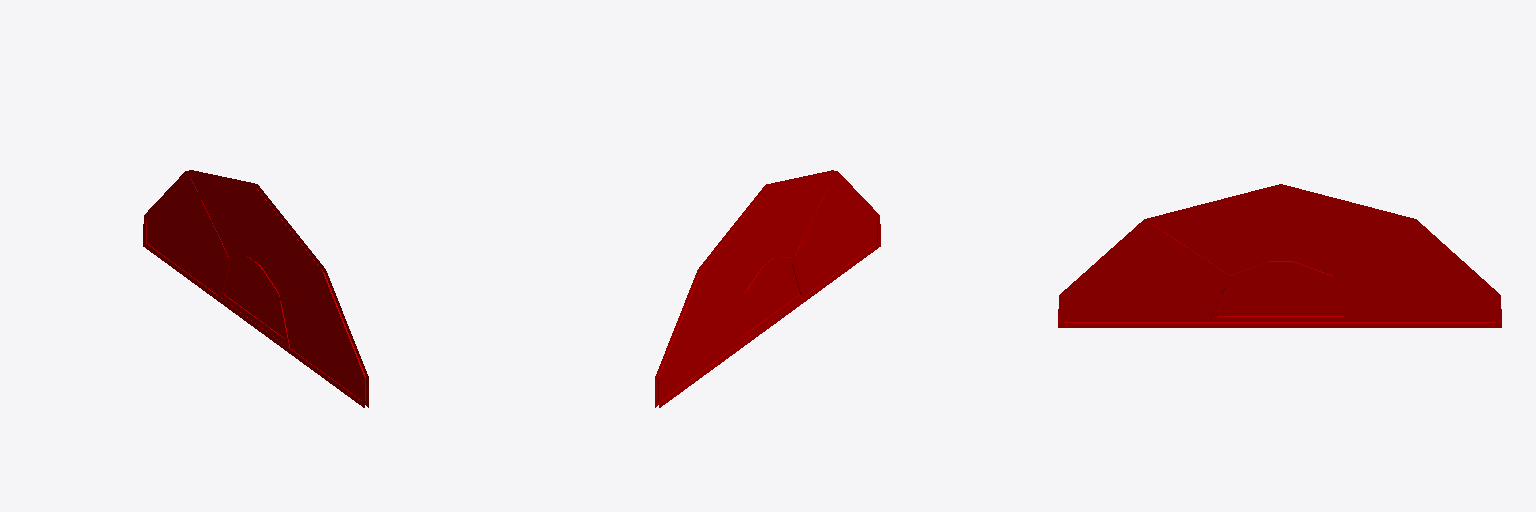
The model's file is WindowHalfMoon_Sunburst.obj.
The picture shows the model from 3 angles: view 1: azimuth 30°, elevation 25°; view 2: azimuth 150°, elevation 25°; view 3: azimuth 270°, elevation 25°; orthographic projection.
Parts seen in each view (by area): view 1: WindowHalfMoon_Sunburst_Cylinder.011; view 2: WindowHalfMoon_Sunburst_Cylinder.011; view 3: WindowHalfMoon_Sunburst_Cylinder.011.
Part boxes in pixels (left/top/right/bottom): WindowHalfMoon_Sunburst_Cylinder.011: left=143, top=170, right=368, bottom=407; WindowHalfMoon_Sunburst_Cylinder.011: left=655, top=170, right=880, bottom=407; WindowHalfMoon_Sunburst_Cylinder.011: left=1058, top=184, right=1501, bottom=327.
Size of the model in its own units: 0.0745 by 2.46 by 6.96.